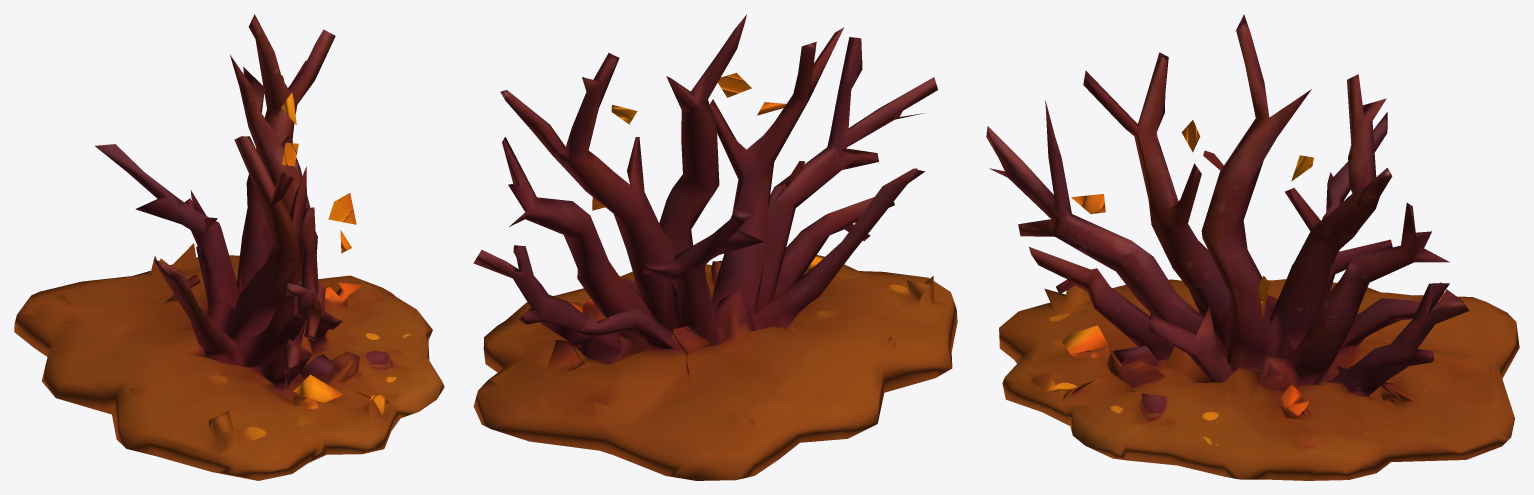
File: camp_deadbush-B8M7hq5E.glb
The picture shows the model from 3 angles, left to right: view 1: azimuth 30°, elevation 25°; view 2: azimuth 150°, elevation 25°; view 3: azimuth 270°, elevation 25°; orthographic projection. The views are drawn at different scales.
Visible parts, largest first — view 1: tripo_node_ff370713-81a2-41eb-83cb-6cad5404a623; view 2: tripo_node_ff370713-81a2-41eb-83cb-6cad5404a623; view 3: tripo_node_ff370713-81a2-41eb-83cb-6cad5404a623.
Part boxes in pixels (x1,y1,x2,y2): tripo_node_ff370713-81a2-41eb-83cb-6cad5404a623: (14, 14, 444, 480); tripo_node_ff370713-81a2-41eb-83cb-6cad5404a623: (473, 14, 957, 480); tripo_node_ff370713-81a2-41eb-83cb-6cad5404a623: (986, 14, 1519, 480).
Size of the model in its own units: 0.8342 by 0.7511 by 1.
1 material, 1 textured.
